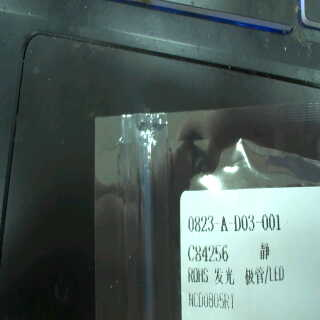LED: (212, 263, 288, 287)
